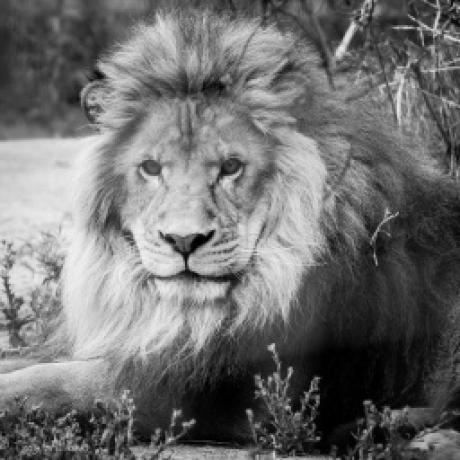Lion: (0, 7, 460, 406)
